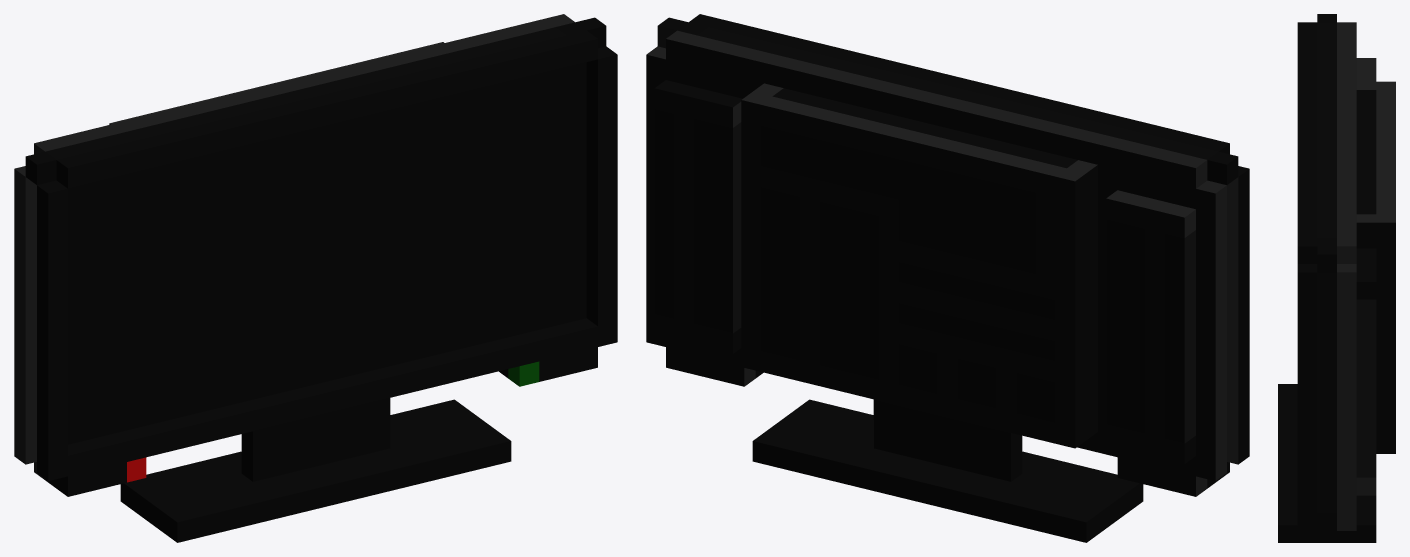
3 renders of one model, left to right at view 1: azimuth 30°, elevation 25°; view 2: azimuth 150°, elevation 25°; view 3: azimuth 270°, elevation 25°, orthographic. The views are drawn at different scales.
Parts seen in each view (by area): view 1: tv; view 2: tv; view 3: tv.
Boxes of the visible parts, <box> form: tv: <box>14,14,617,542</box>; tv: <box>646,14,1249,542</box>; tv: <box>1278,14,1395,542</box>.
Bounding box in the file's own units: 8.99 × 5.89 × 1.86.
7 materials, 1 textured.
